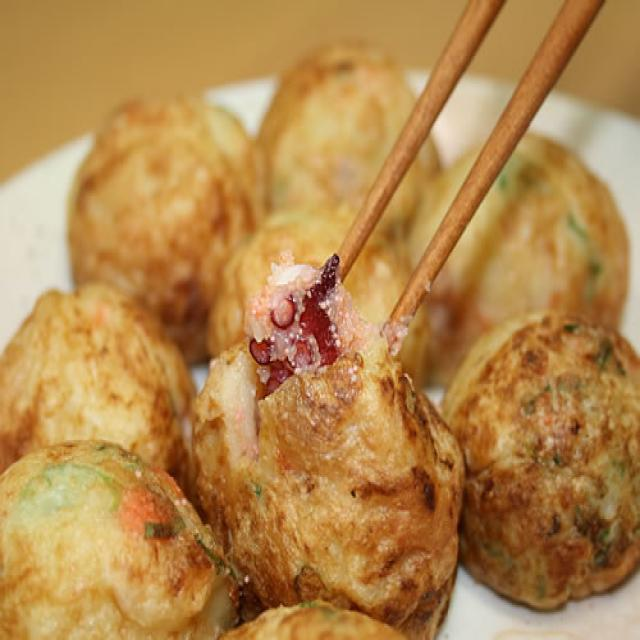炸货点心: (0, 44, 640, 640)
